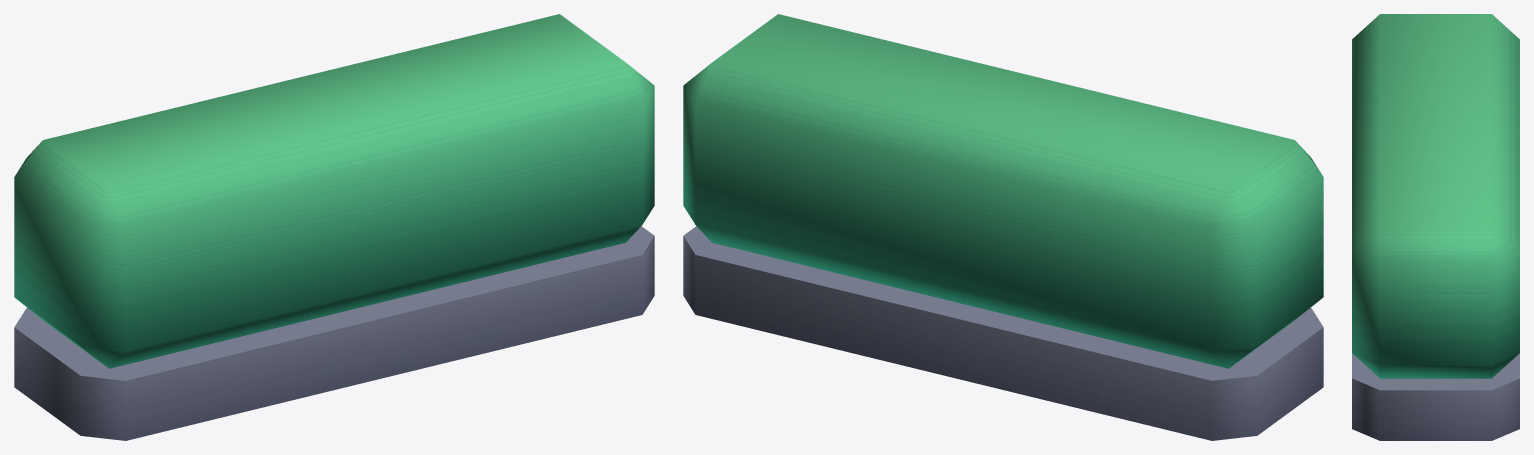
The model's file is hedge.glb.
The picture shows the model from 3 angles, left to right: view 1: azimuth 30°, elevation 25°; view 2: azimuth 150°, elevation 25°; view 3: azimuth 270°, elevation 25°; orthographic projection. The views are drawn at different scales.
Parts seen in each view (by area): view 1: hedge; view 2: hedge; view 3: hedge.
Boxes of the visible parts, x1,y1,x2,y2 form: hedge: [14, 14, 654, 440]; hedge: [683, 14, 1323, 440]; hedge: [1352, 14, 1519, 440].
Size of the model in its own units: 1 by 0.4 by 0.3.
1 material, 1 textured.
